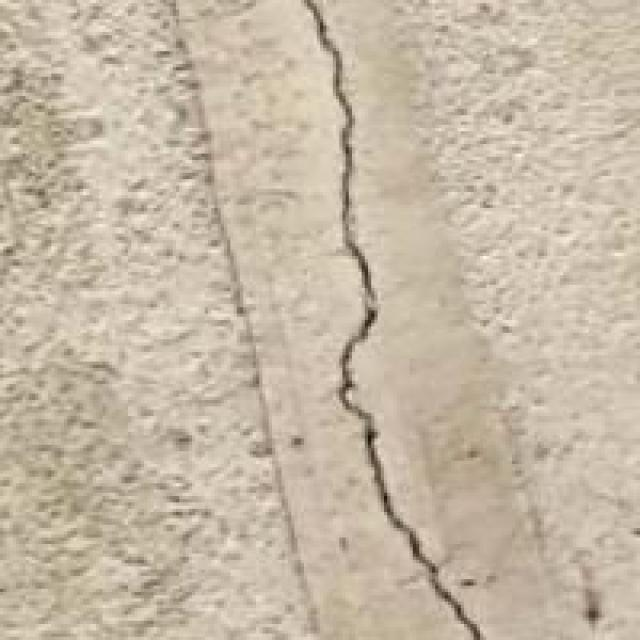Crack: (245, 0, 539, 634)
